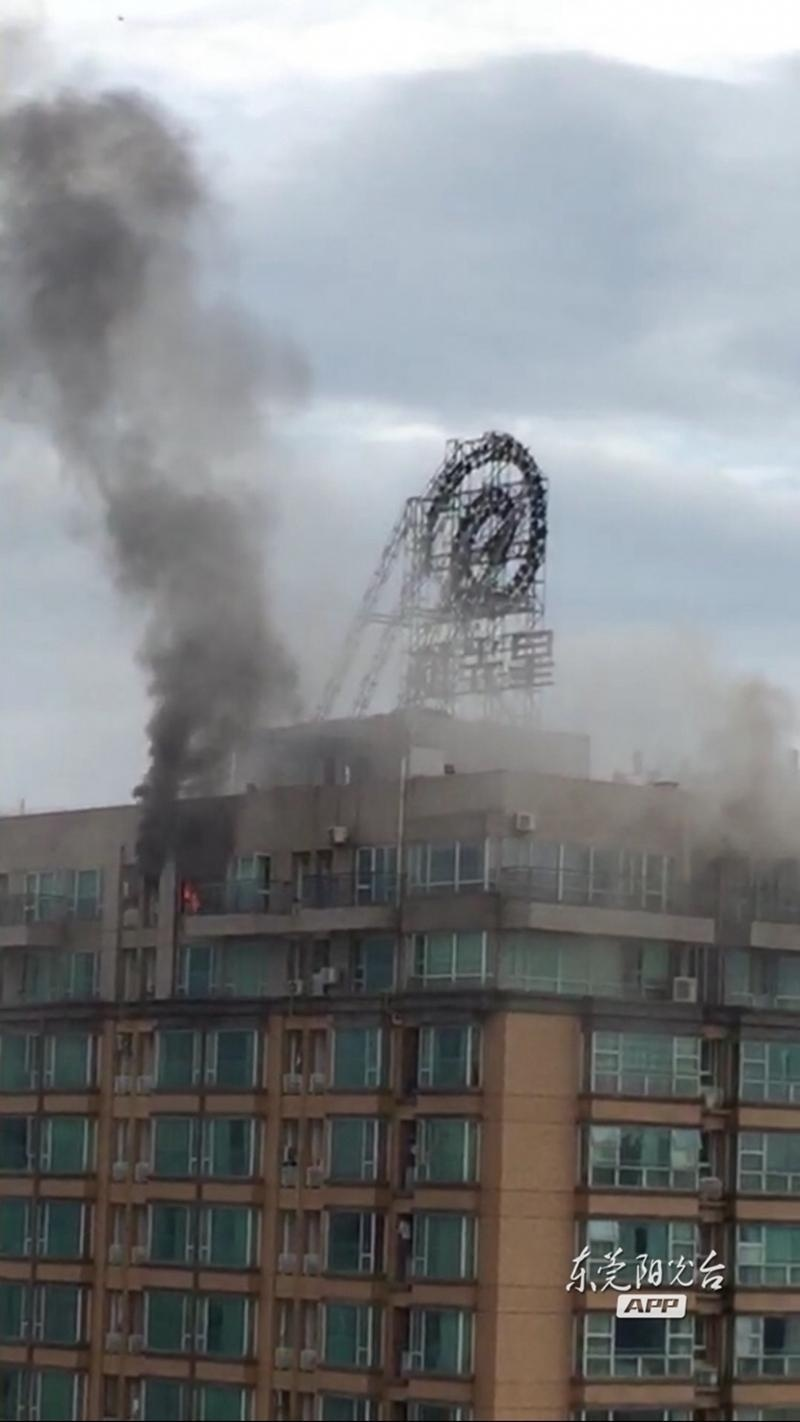fire: (175, 877, 205, 911)
